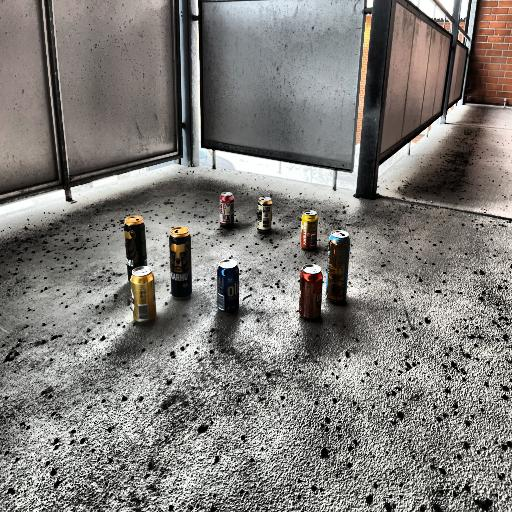A_LeCoq: (127, 267, 160, 326), (296, 264, 325, 326)
karhu: (162, 220, 198, 304), (119, 206, 148, 269)
koff: (213, 186, 237, 234)
koti: (212, 252, 248, 320)
sandels: (255, 189, 276, 239)
